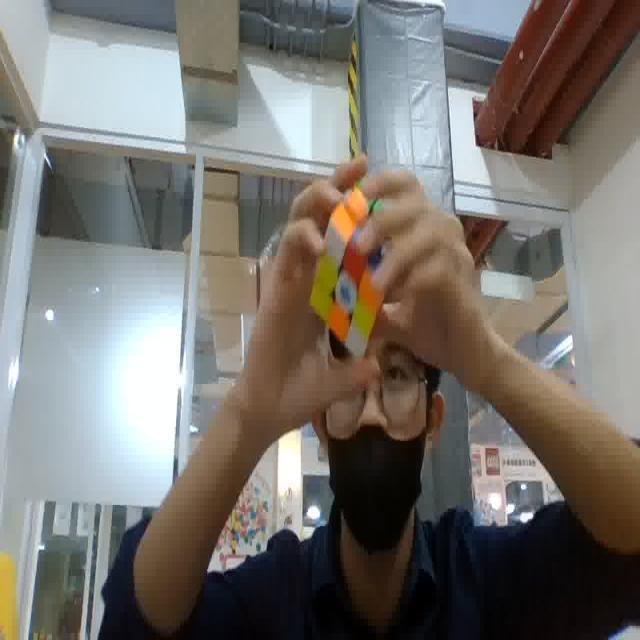Rub: (310, 183, 395, 352)
